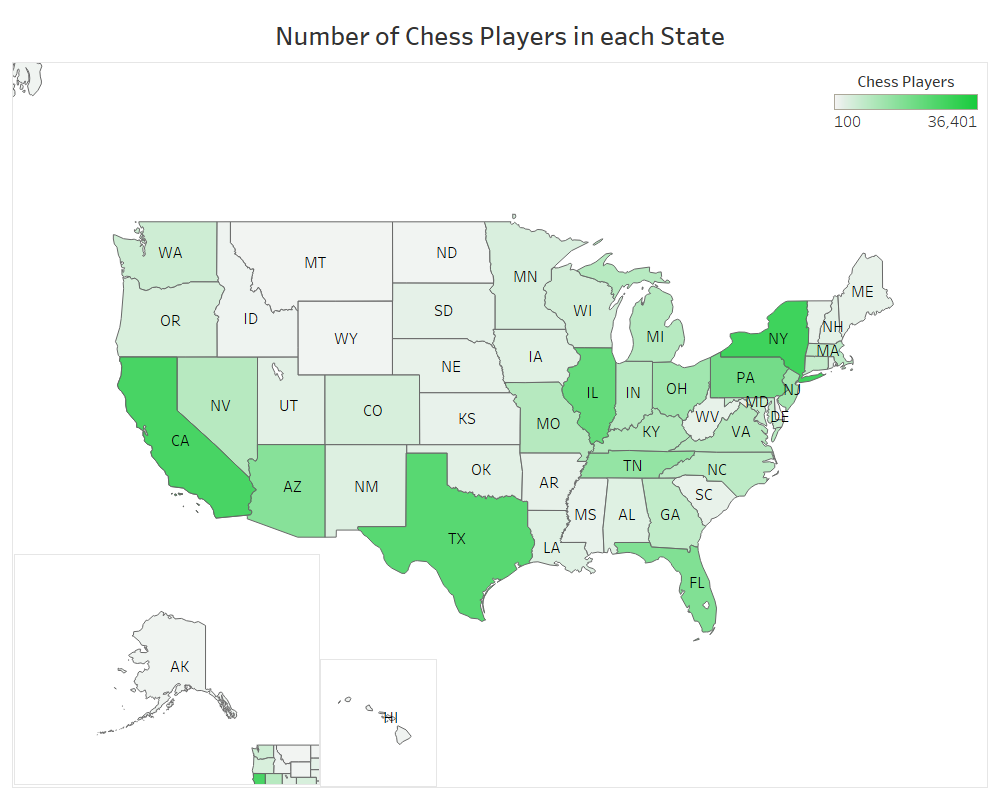

Layout of this report page (visuals, bound fields, positions):
{"tool":"tableau","page":{"name":"Dashboard 1","canvas":[1000,800],"ordinal":0},"visuals":[{"type":"worksheet","title":"Number of players by location","mark":"Multipolygon","box":[8,8,824,784]},{"type":"filter","title":"Number of players by location","param":"[federated.082oyf91xkn6b814h3rv01508agu].[none:gender:nk]","box":[832,8,160,105]}]}

Visuals, with their boxes in screenshot pixels (x1, y1, x2, y2), scaled from the page's 1000x800 canvas onto the 1000x800 screenshot:
"Number of players by location" worksheet (Multipolygon marks): [8, 8, 832, 792]
"Number of players by location" filter: [832, 8, 992, 113]
